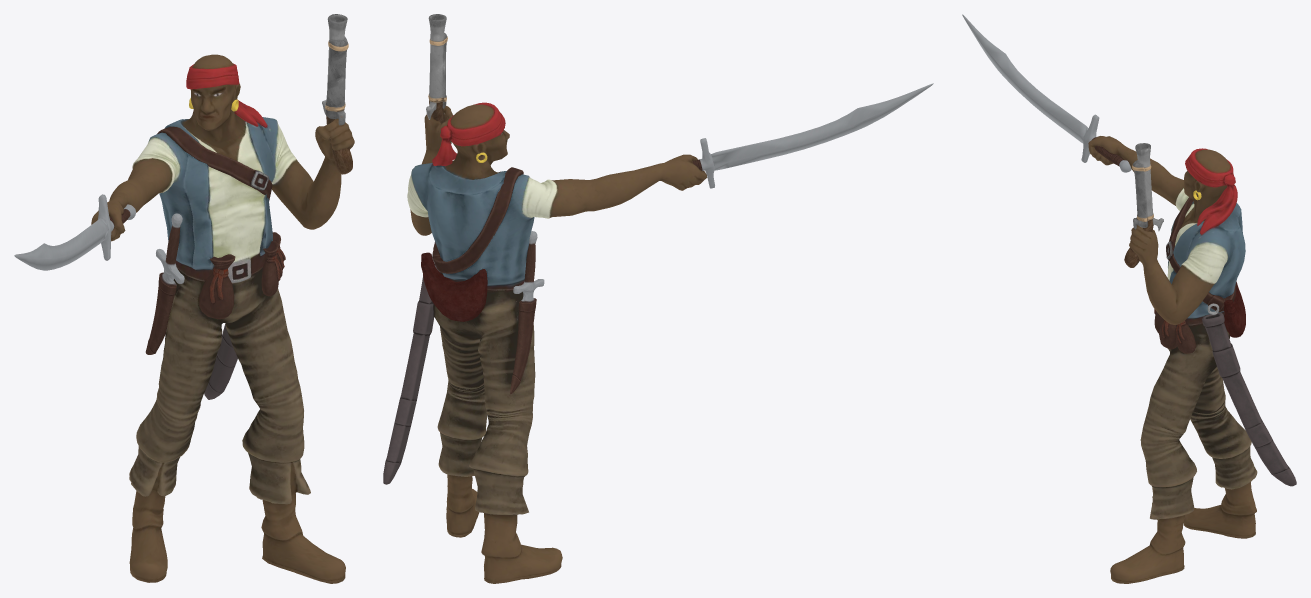
The model's file is MZ4250 - Pirate Male.glb.
3 renders of one model, left to right at view 1: azimuth 30°, elevation 25°; view 2: azimuth 150°, elevation 25°; view 3: azimuth 270°, elevation 25°, orthographic. The views are drawn at different scales.
Visible parts, largest first — view 1: Body.001; view 2: Body.001; view 3: Body.001.
Boxes of the visible parts, x1,y1,x2,y2 form: Body.001: (14, 14, 354, 583); Body.001: (383, 14, 933, 583); Body.001: (962, 14, 1296, 583).
Size of the model in its own units: 85.79 by 99.77 by 68.63.
Materials: 9 (9 with a texture image).
